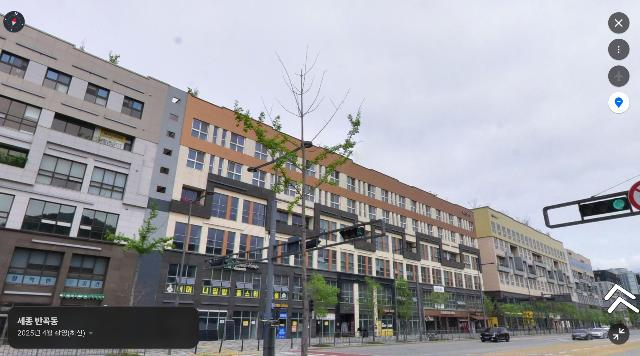other: (232, 43, 366, 356), (100, 201, 176, 345), (306, 272, 342, 347), (391, 276, 426, 342), (360, 276, 384, 343), (492, 297, 520, 335), (526, 299, 551, 335), (551, 301, 572, 334)
